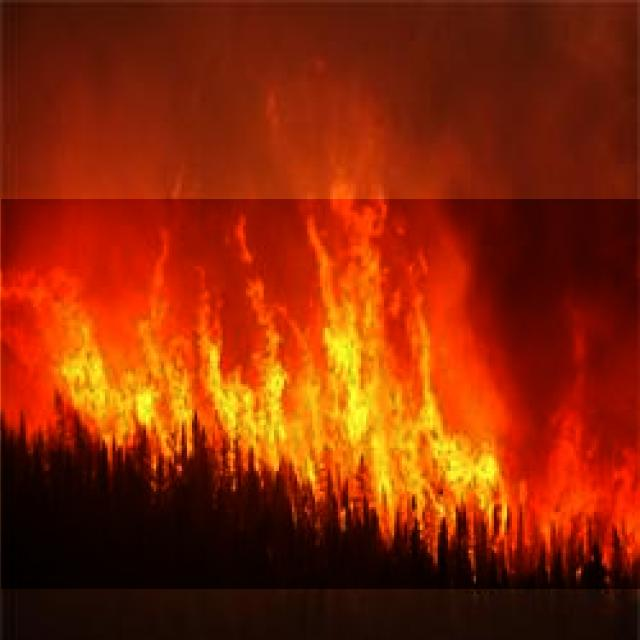Fire: (1, 199, 640, 589)
